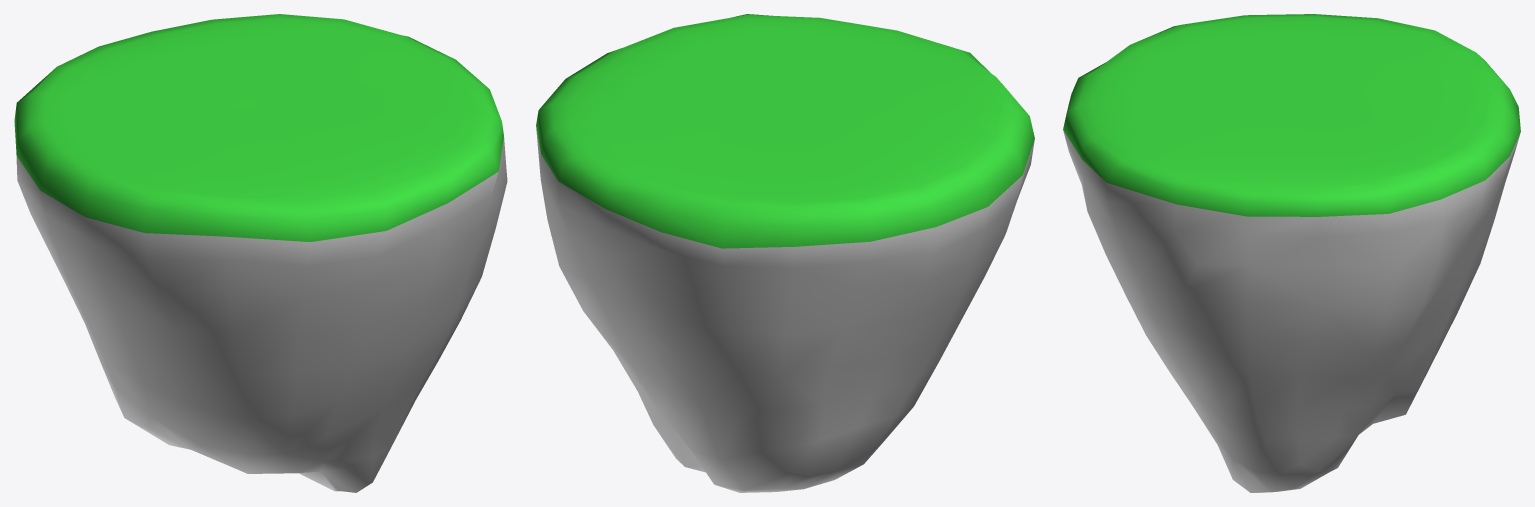
The model's file is platform_water_02.fbx.
3 renders of one model, left to right at view 1: azimuth 30°, elevation 25°; view 2: azimuth 150°, elevation 25°; view 3: azimuth 270°, elevation 25°, orthographic. The views are drawn at different scales.
Parts seen in each view (by area): view 1: platform_central_04.006; view 2: platform_central_04.006; view 3: platform_central_04.006.
Part boxes in pixels (x1,y1,x2,y2): platform_central_04.006: (14,14,507,492); platform_central_04.006: (536,14,1034,492); platform_central_04.006: (1063,14,1520,492).
Bounding box in the file's own units: 22.46 × 19.68 × 22.61.
